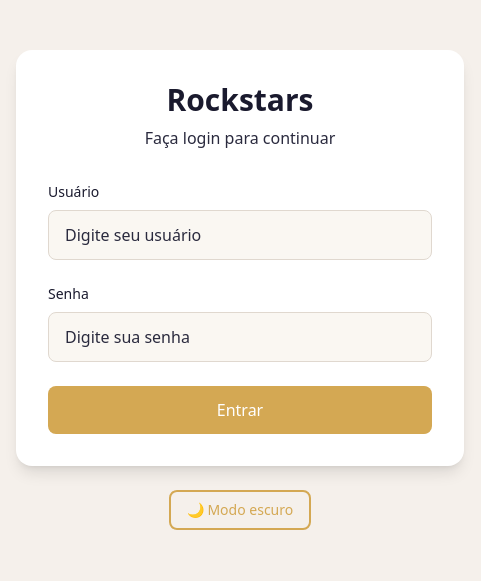
Test case: Login › deve mostrar erro quando login falha
This screenshot has width=481, height=581.
In the field labelled "Usuário": x=240, y=235 [48,210,432,260], type "rockstar"
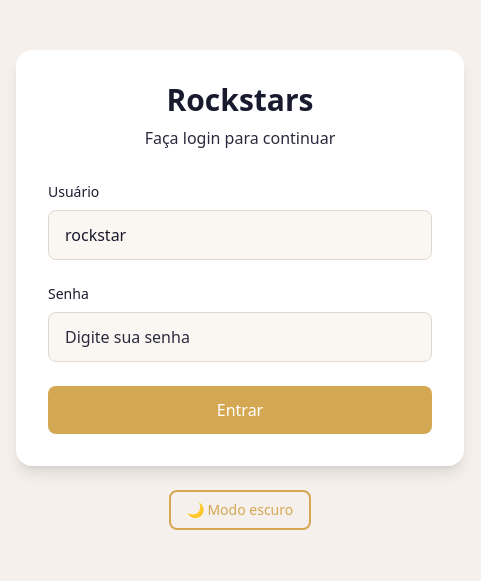
In the password field labelled "Senha": x=240, y=337 [48,312,432,362], type "senhaerrada"
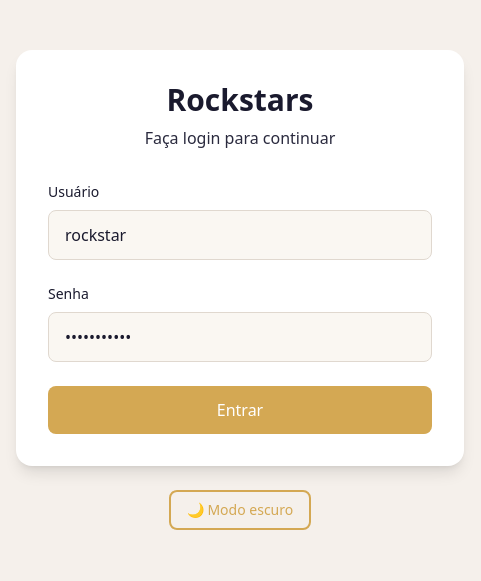
Click the button "Entrar": x=240, y=410 [48,386,432,434]
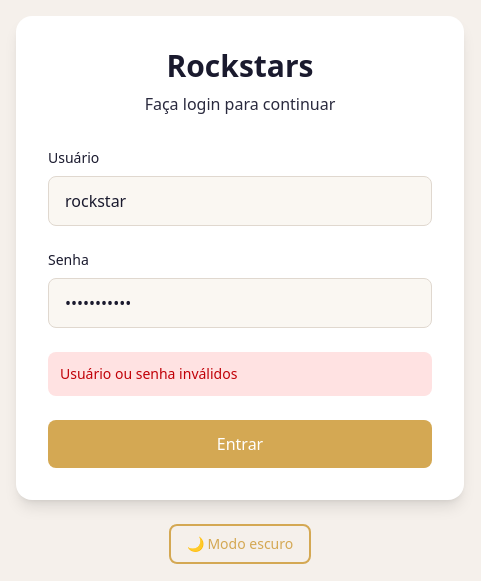
Expected: the text "Usuário ou senha inválidos" is shown, [48,352,432,396]
